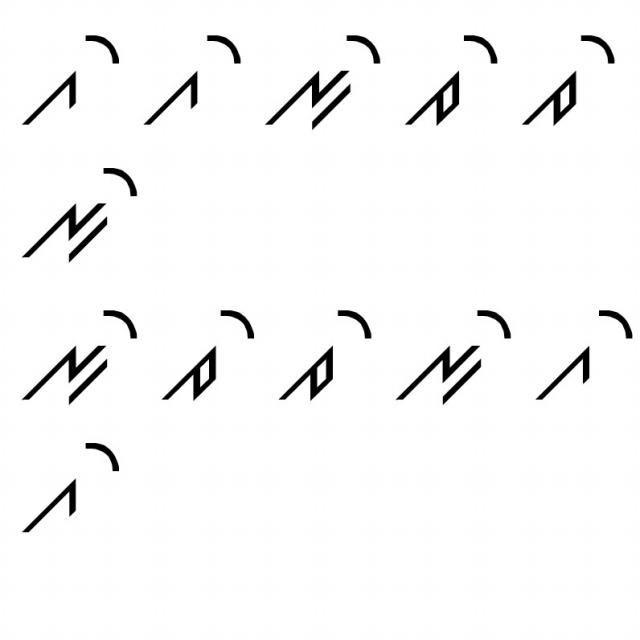gay: (529, 294, 634, 410), (15, 433, 126, 537), (136, 26, 245, 130), (18, 30, 123, 134)
ngay: (15, 298, 143, 410), (394, 302, 518, 414), (20, 155, 146, 263), (264, 23, 386, 131)
tay: (154, 294, 262, 414), (275, 302, 374, 412), (520, 26, 626, 128), (403, 27, 504, 131)
